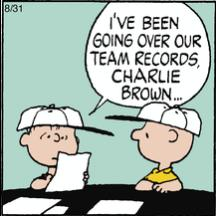charlie: (129, 102, 201, 194)
